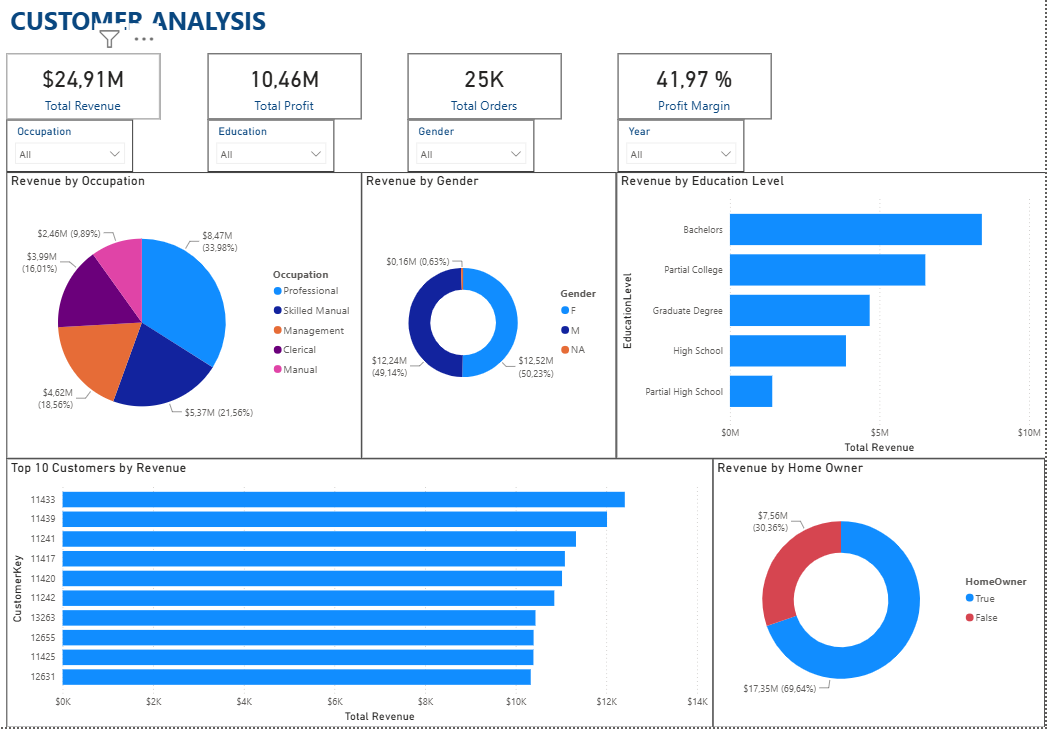

This screenshot's page, from the dashboard's own definition file:
{"tool":"powerbi","page":{"name":"Customer Analysis","canvas":[1350,950],"ordinal":2},"visuals":[{"type":"textbox","box":[9.7,11.3,479.2,66.2],"z":0},{"type":"card","fields":{"Values":["vw_SalesAnalysis.Total Revenue"]},"box":[9.7,80.7,198,85],"z":1000},{"type":"card","fields":{"Values":["vw_SalesAnalysis.Total Profit"]},"box":[269.4,80.7,198,85],"z":2000},{"type":"card","fields":{"Values":["vw_SalesAnalysis.Total Orders"]},"box":[527.6,80.7,198,85],"z":3000},{"type":"card","fields":{"Values":["vw_SalesAnalysis.Profit Margin"]},"box":[798.7,80.7,198,85],"z":4000},{"type":"slicer","fields":{"Values":["vw_SalesAnalysis.Occupation"]},"box":[9.7,166.2,163.3,67.2],"z":5000},{"type":"slicer","fields":{"Values":["vw_SalesAnalysis.EducationLevel"]},"box":[269.4,166.2,163.3,67.2],"z":6000},{"type":"slicer","fields":{"Values":["vw_SalesAnalysis.Gender"]},"box":[527.6,166.2,163.3,67.2],"z":7000},{"type":"slicer","fields":{"Values":["Calendar.Year"]},"box":[798.7,166.2,163.3,67.2],"z":8000},{"type":"pieChart","title":"Revenue by Occupation","fields":{"Category":["vw_SalesAnalysis.Occupation"],"Y":["vw_SalesAnalysis.Total Revenue"]},"box":[9.7,234,458.2,369.5],"z":9000},{"type":"clusteredBarChart","title":"Revenue by Education Level","fields":{"Category":["vw_SalesAnalysis.EducationLevel"],"Y":["vw_SalesAnalysis.Total Revenue"]},"box":[797,234,555,369.5],"z":10000},{"type":"donutChart","title":"Revenue by Gender","fields":{"Category":["vw_SalesAnalysis.Gender"],"Y":["vw_SalesAnalysis.Total Revenue"]},"box":[467.9,234,329.1,369.5],"z":11000},{"type":"donutChart","title":"Revenue by Home Owner","fields":{"Category":["vw_SalesAnalysis.HomeOwner"],"Y":["vw_SalesAnalysis.Total Revenue"]},"box":[921.3,603.4,429.2,346.9],"z":12000},{"type":"clusteredBarChart","title":"Top 10 Customers by Revenue","fields":{"Category":["vw_SalesAnalysis.CustomerKey"],"Y":["vw_SalesAnalysis.Total Revenue"]},"box":[9.7,603.4,911.6,346.9],"z":13000}]}

Visuals, with their boxes in screenshot pixels (x1, y1, x2, y2), scaled from the page's 1350x950 canvas onto the 1048x733 screenshot:
textbox: {"left": 8, "top": 9, "right": 380, "bottom": 60}
card - vw_SalesAnalysis.Total Revenue: {"left": 8, "top": 62, "right": 161, "bottom": 128}
card - vw_SalesAnalysis.Total Profit: {"left": 209, "top": 62, "right": 363, "bottom": 128}
card - vw_SalesAnalysis.Total Orders: {"left": 410, "top": 62, "right": 563, "bottom": 128}
card - vw_SalesAnalysis.Profit Margin: {"left": 620, "top": 62, "right": 774, "bottom": 128}
slicer - vw_SalesAnalysis.Occupation: {"left": 8, "top": 128, "right": 134, "bottom": 180}
slicer - vw_SalesAnalysis.EducationLevel: {"left": 209, "top": 128, "right": 336, "bottom": 180}
slicer - vw_SalesAnalysis.Gender: {"left": 410, "top": 128, "right": 536, "bottom": 180}
slicer - Calendar.Year: {"left": 620, "top": 128, "right": 747, "bottom": 180}
"Revenue by Occupation" pieChart: {"left": 8, "top": 181, "right": 363, "bottom": 466}
"Revenue by Education Level" clusteredBarChart: {"left": 619, "top": 181, "right": 1047, "bottom": 466}
"Revenue by Gender" donutChart: {"left": 363, "top": 181, "right": 619, "bottom": 466}
"Revenue by Home Owner" donutChart: {"left": 715, "top": 466, "right": 1047, "bottom": 732}
"Top 10 Customers by Revenue" clusteredBarChart: {"left": 8, "top": 466, "right": 715, "bottom": 732}
